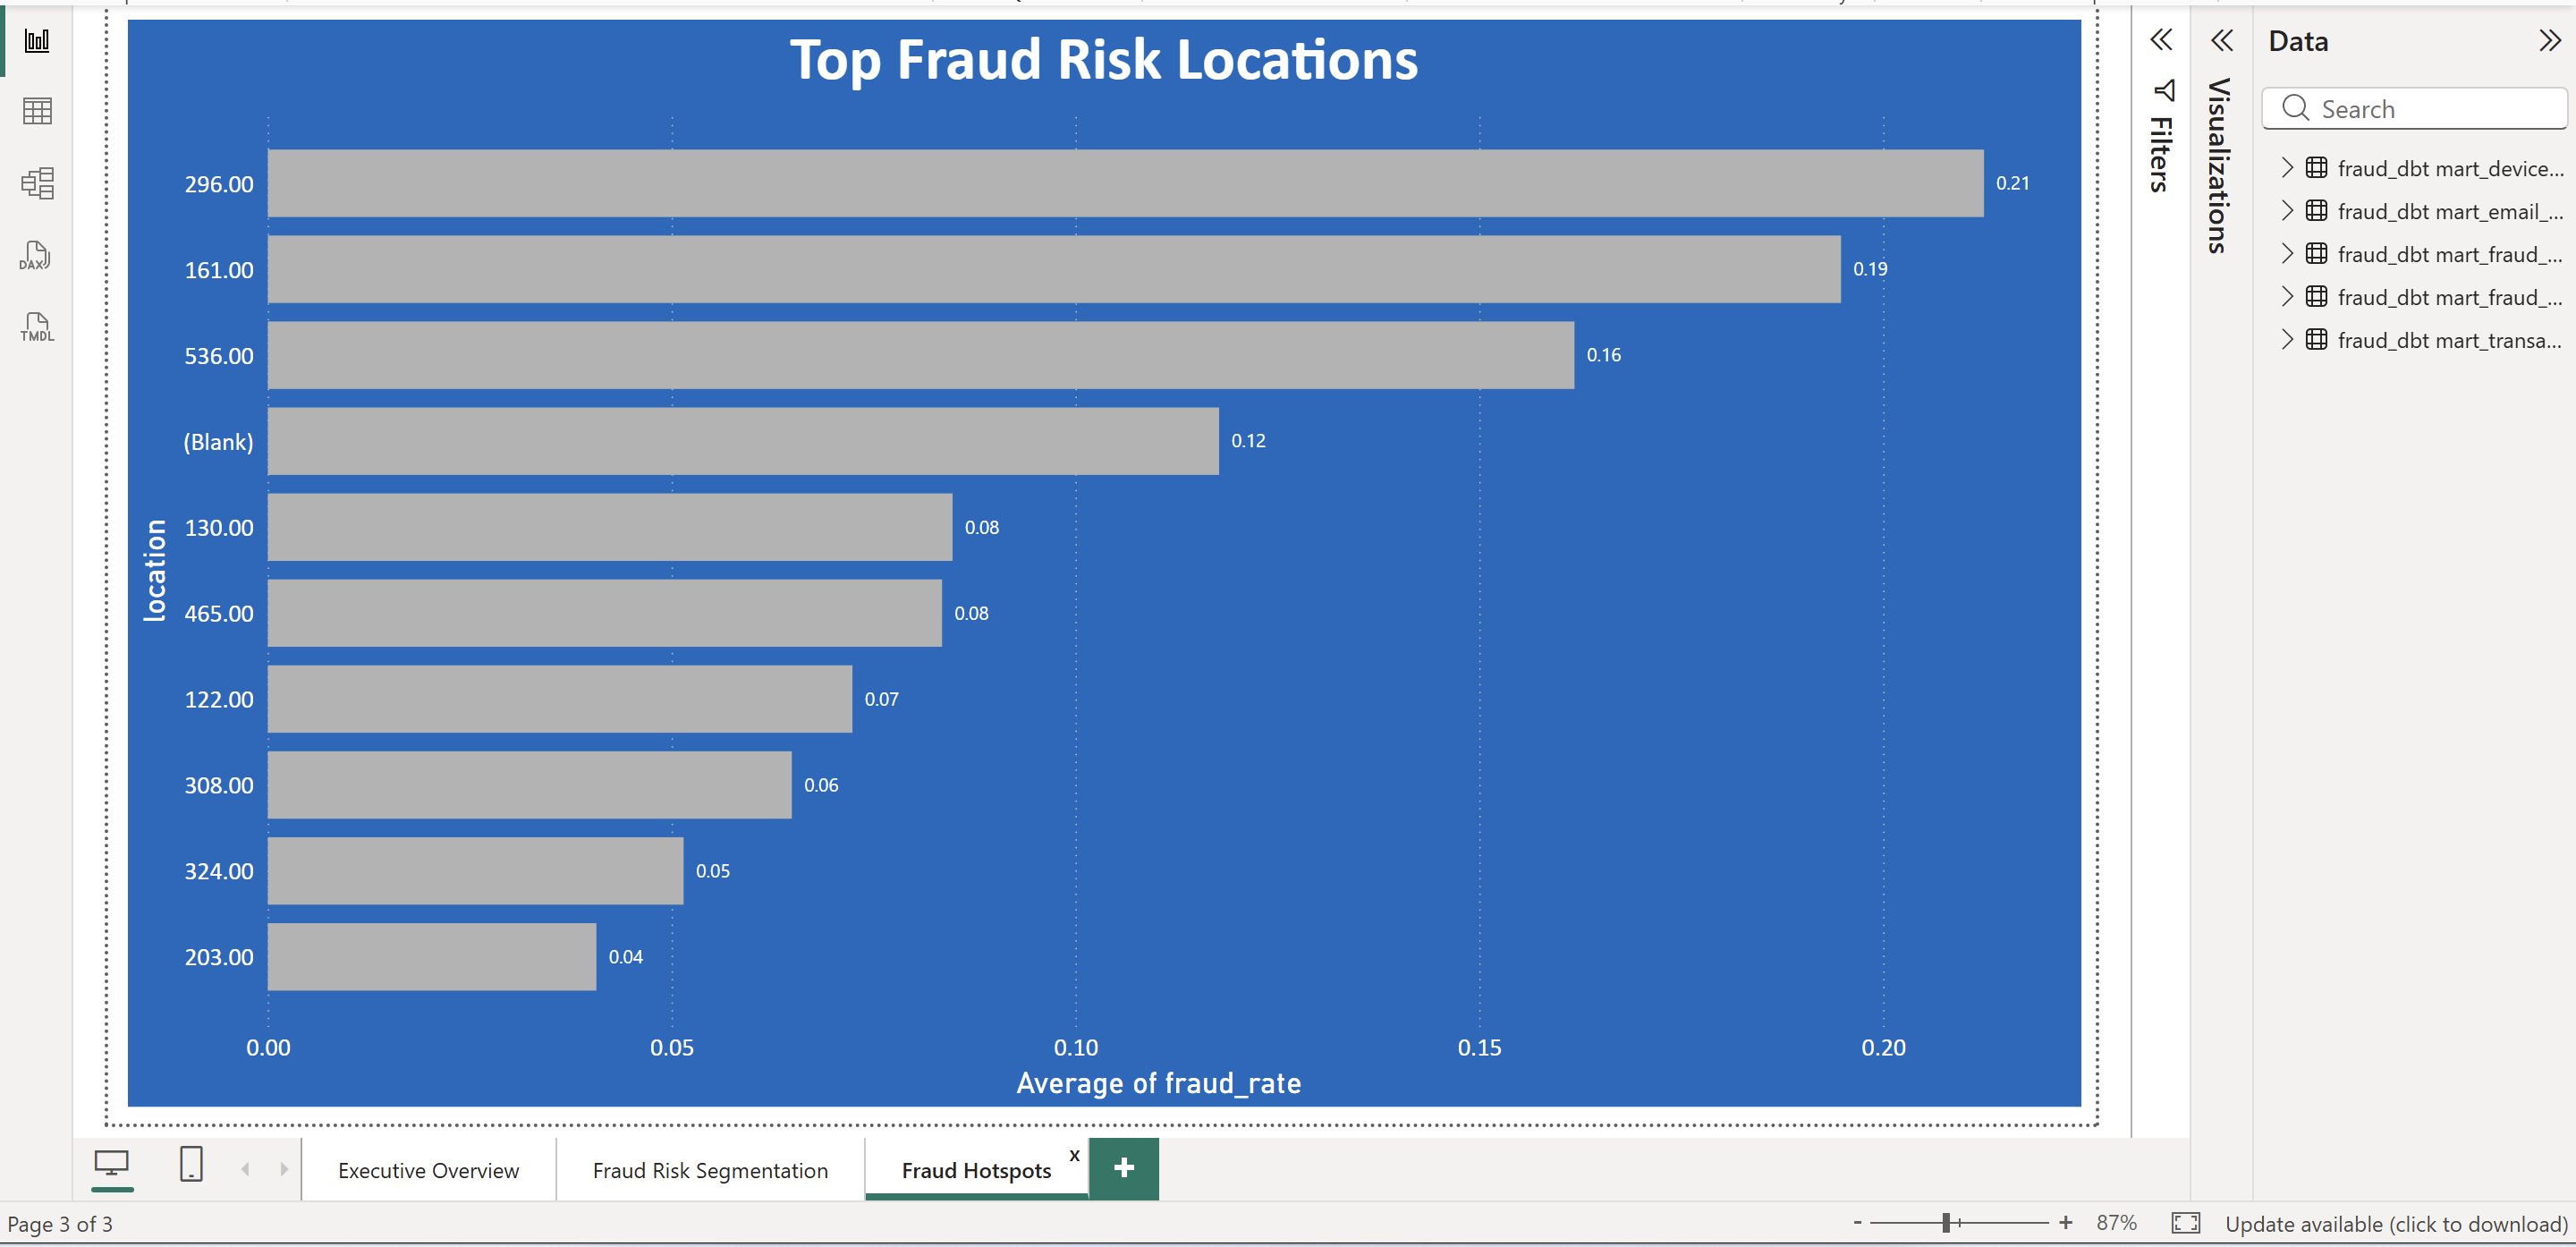

Layout of this report page (visuals, bound fields, positions):
{"tool":"powerbi","page":{"name":"Fraud Hotspots","canvas":[1280,720],"ordinal":2},"visuals":[{"type":"clusteredBarChart","title":"Top Fraud Risk Locations","fields":{"Category":["fraud_dbt mart_fraud_hotspots.location"],"Y":["Avg(fraud_dbt mart_fraud_hotspots.fraud_rate)"]},"box":[12.3,9.6,1258.1,700.2],"z":0}]}

Visuals, with their boxes on the page's 1280x720 design canvas (x1, y1, x2, y2). These are canvas units, not pixel positions in the 2576x1247 screenshot, which may show the page scaled, cropped or inside an application window:
"Top Fraud Risk Locations" clusteredBarChart: 12,10,1270,710
